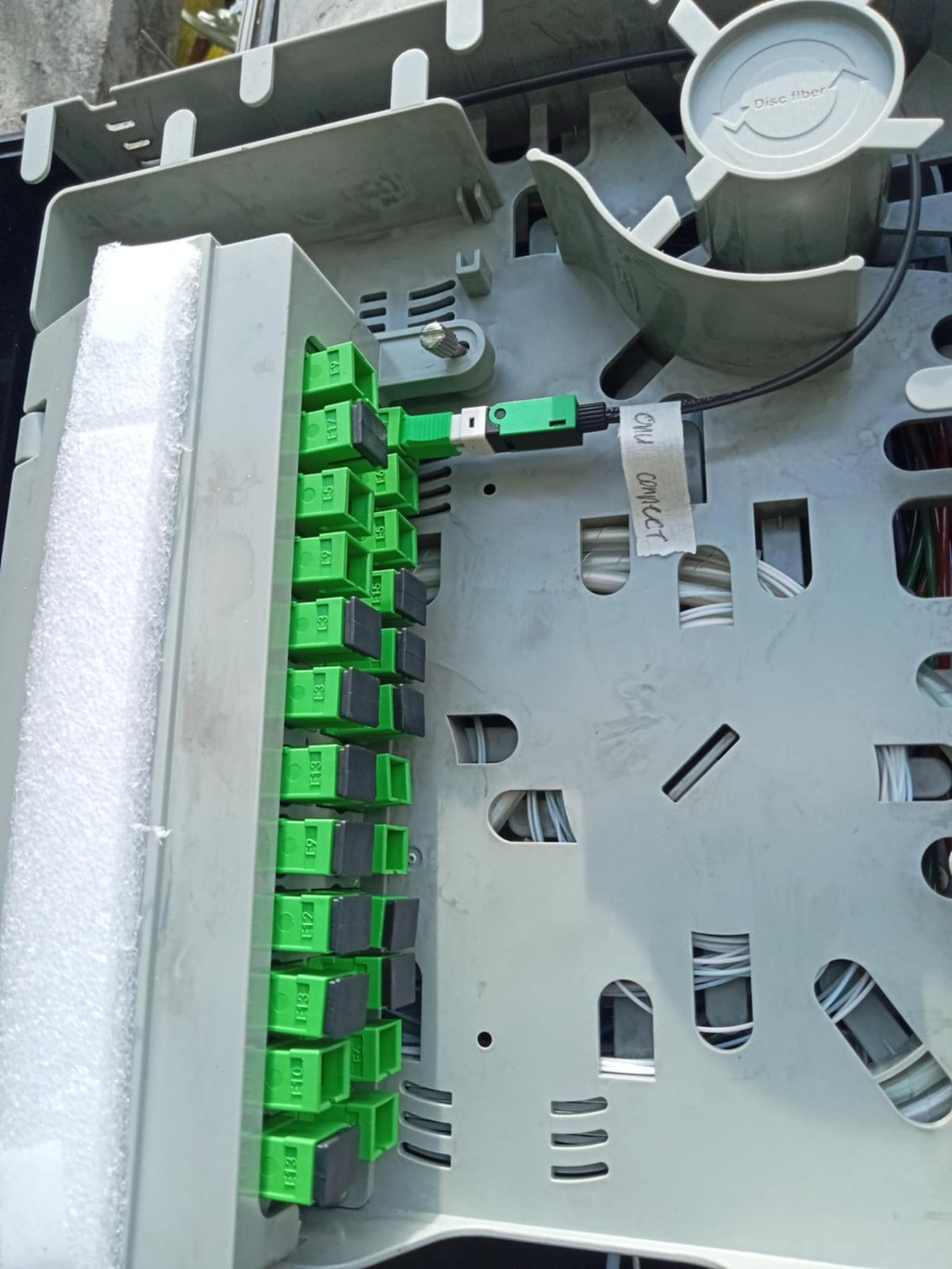no dust cap: (320, 1042, 351, 1112), (344, 472, 374, 534), (371, 1095, 399, 1159), (351, 344, 378, 409), (344, 534, 372, 591), (394, 451, 419, 512), (377, 1020, 400, 1080), (382, 827, 410, 872), (395, 512, 417, 562), (388, 758, 411, 800)
occupied: (402, 394, 609, 460)
vacant: (310, 1125, 363, 1206), (323, 975, 371, 1038), (351, 399, 390, 470), (340, 666, 382, 727), (330, 894, 371, 956), (336, 745, 379, 804), (330, 824, 376, 875), (347, 600, 382, 658), (382, 950, 415, 1009), (379, 901, 420, 947), (396, 569, 429, 625), (395, 628, 427, 680), (393, 687, 426, 737)
